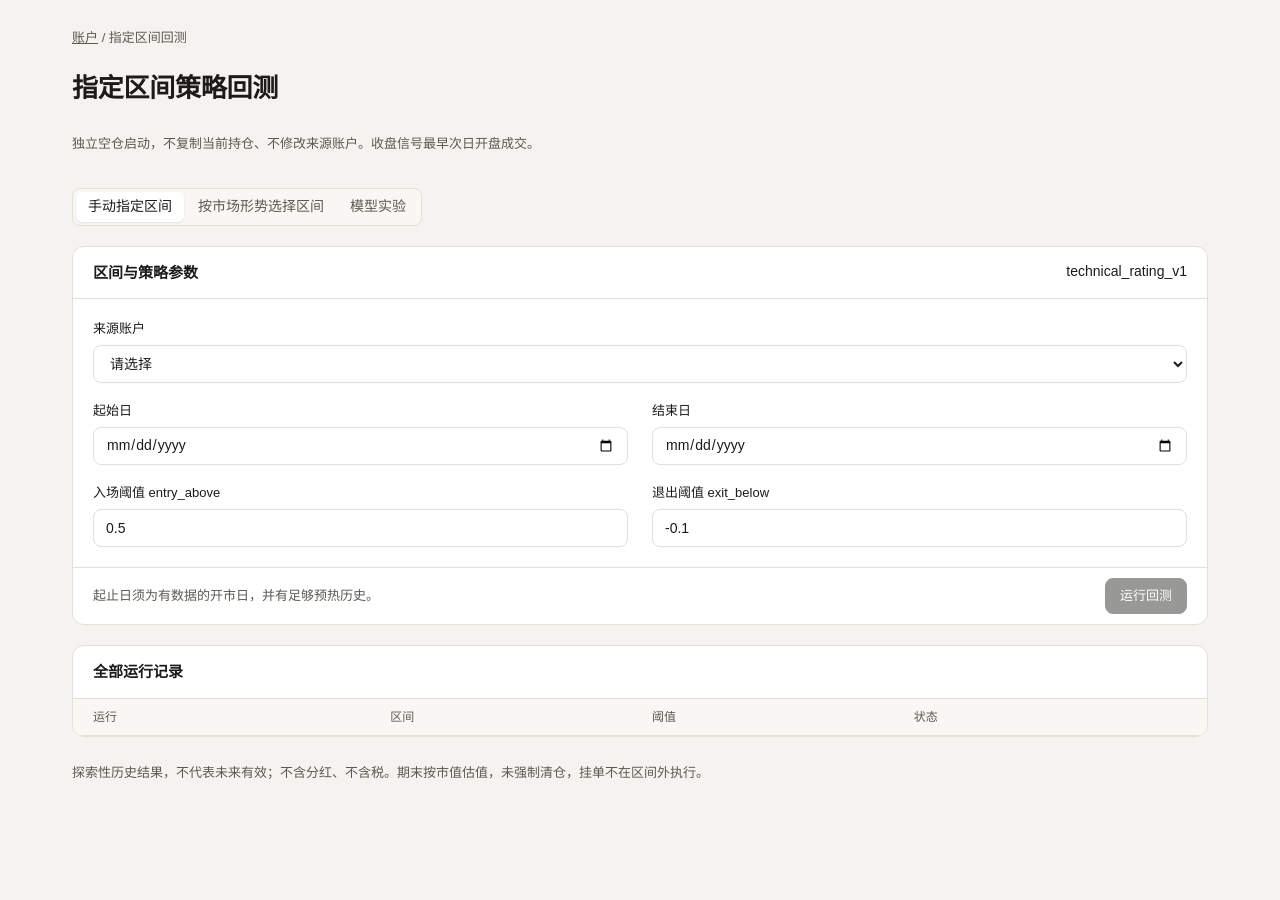
Scenario: 切到模型实验模式：显示登记表单和实验历史，地址记下模式，切回手动表单还在
Click the button "模型实验". click: coordinates (378, 207)
box: [338,192,418,222]
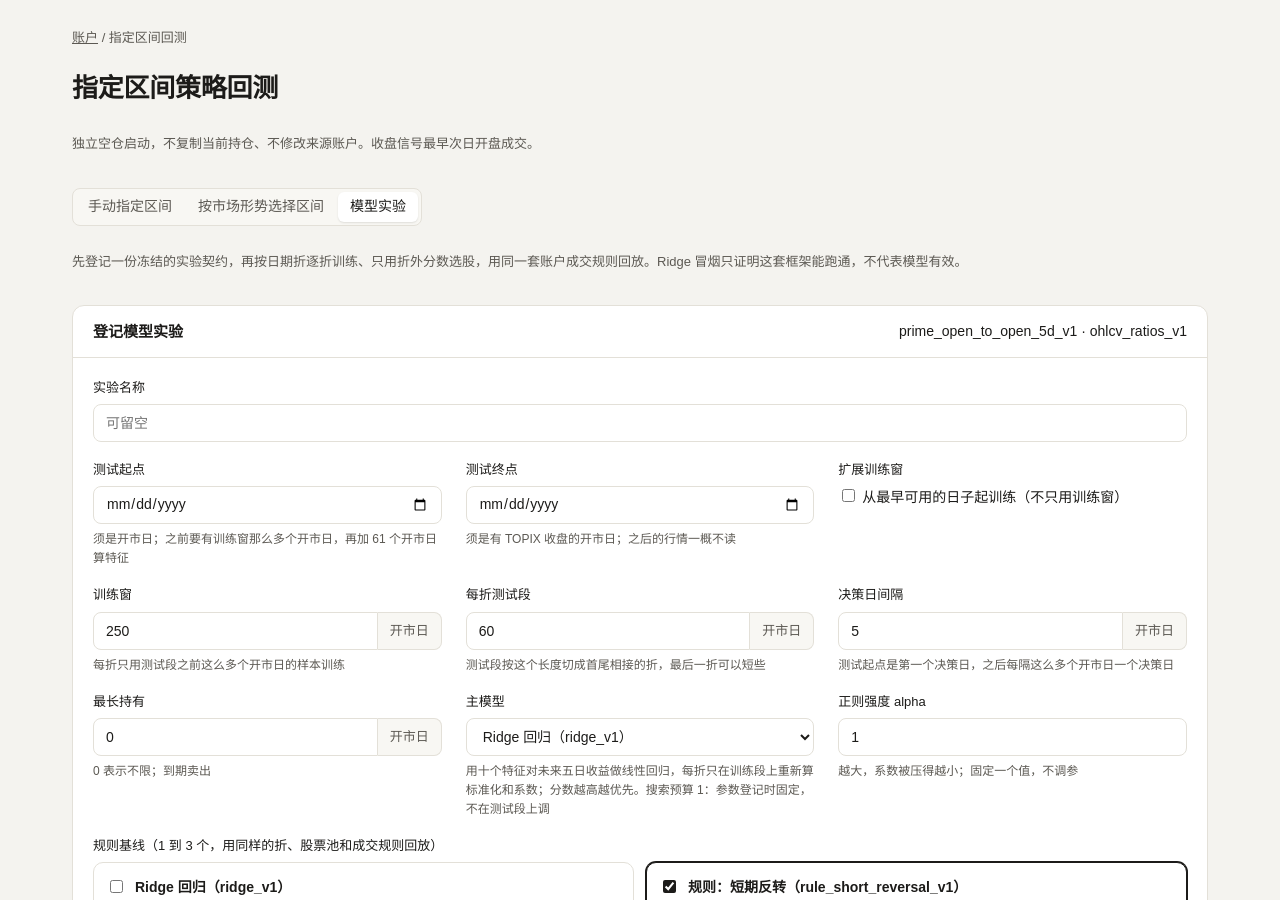
expect the button "运行回测" is gone: met
Click the button "手动指定区间". click: coordinates (130, 207)
box: [76,192,184,222]
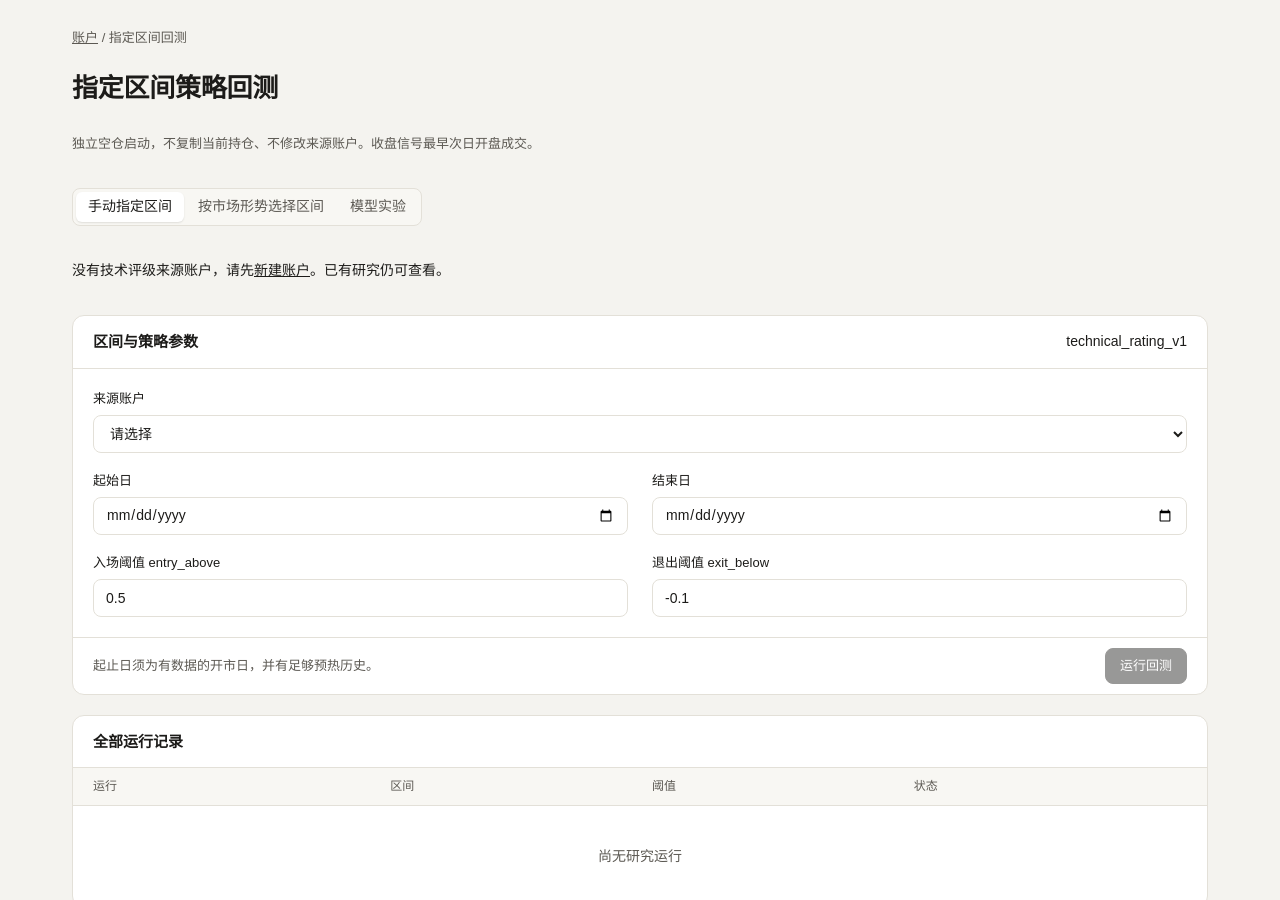
expect the button "运行回测" is shown: met, box [1105,648,1187,684]
